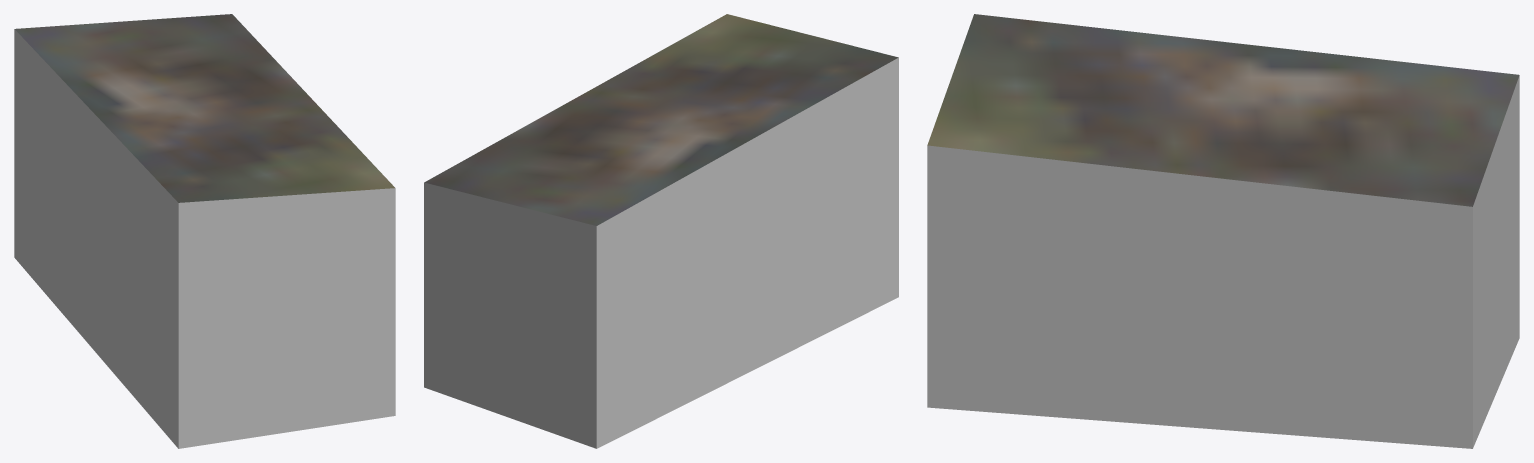
The model's file is DEBW_0010007THXB.gltf.
3 views of the same model, side by side, from view 1: azimuth 30°, elevation 25°; view 2: azimuth 150°, elevation 25°; view 3: azimuth 270°, elevation 25° (orthographic). The views are drawn at different scales.
Parts seen in each view (by area): view 1: Z_UP; view 2: Z_UP; view 3: Z_UP.
Part boxes in pixels (box(x1,y1,x2,y2)): Z_UP: box(14, 14, 395, 448); Z_UP: box(424, 14, 898, 448); Z_UP: box(927, 14, 1519, 448).
Size of the model in its own units: 3.3 by 2.87 by 5.44.
Materials: 2 (1 with a texture image).
